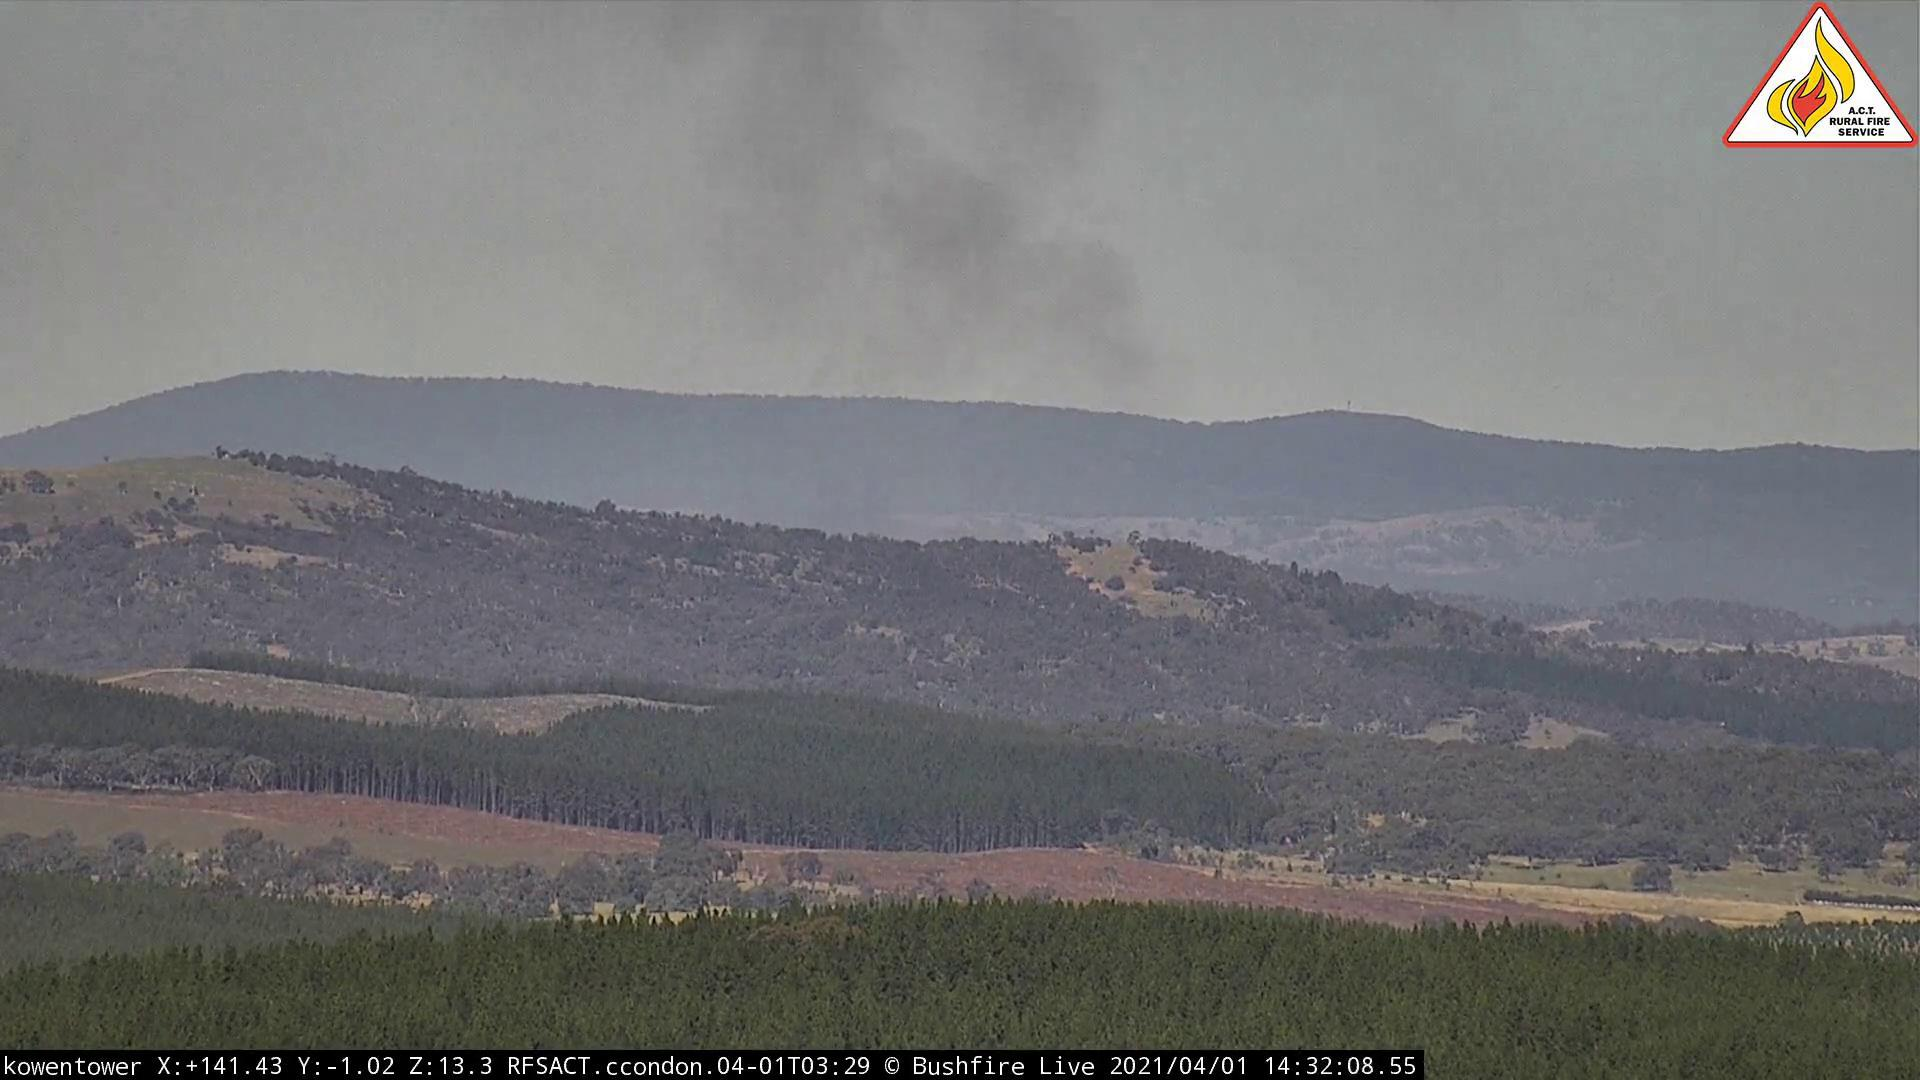Smoke: (601, 3, 1213, 579)
